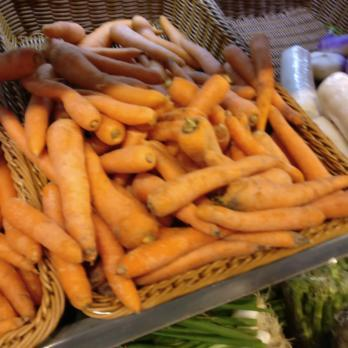Carrot: (39, 20, 194, 269), (193, 44, 284, 254), (284, 129, 348, 227), (0, 171, 40, 316)
